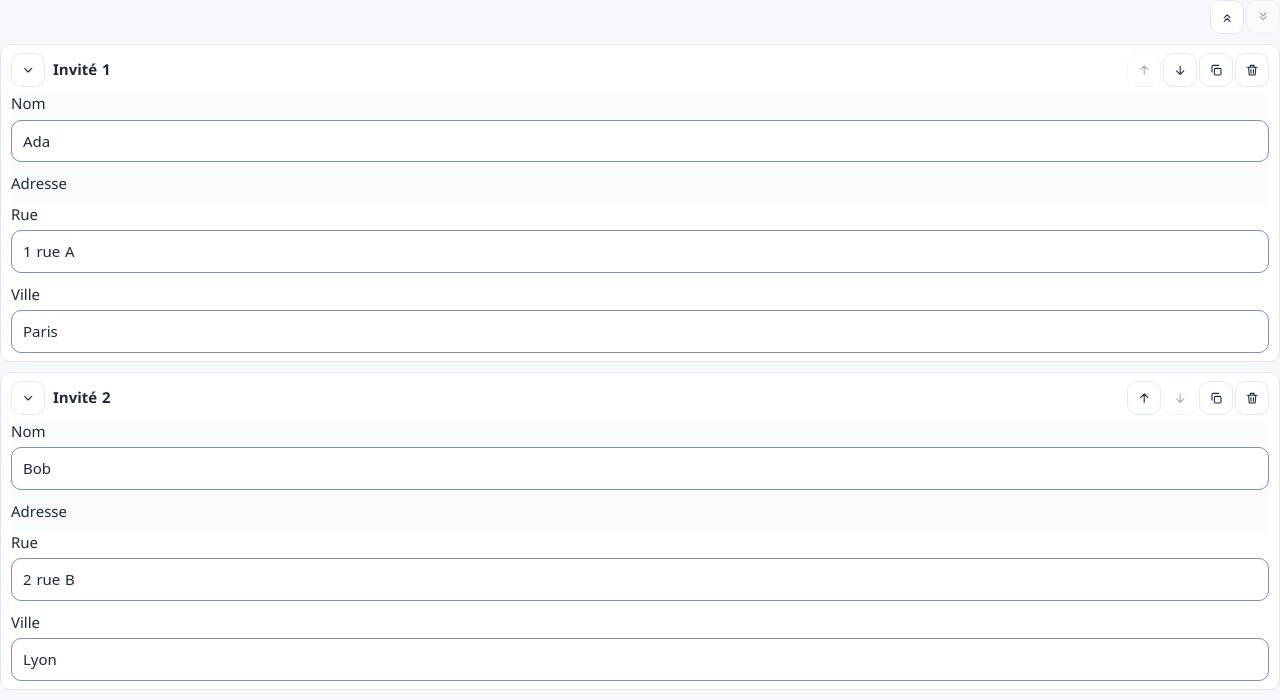
Test: Lignes répétées : dupliquer une ligne › ajoute juste en dessous une ligne avec les mêmes valeurs saisies, sous-contrôle compris
Expected: the number of elements "Invité 1 Nom Adresse Rue Ville" is 2, left=0, top=44, right=1279, bottom=362; left=0, top=372, right=1279, bottom=690
Click the button named "Dupliquer invité 1": (1216, 70) left=1199, top=53, right=1233, bottom=87
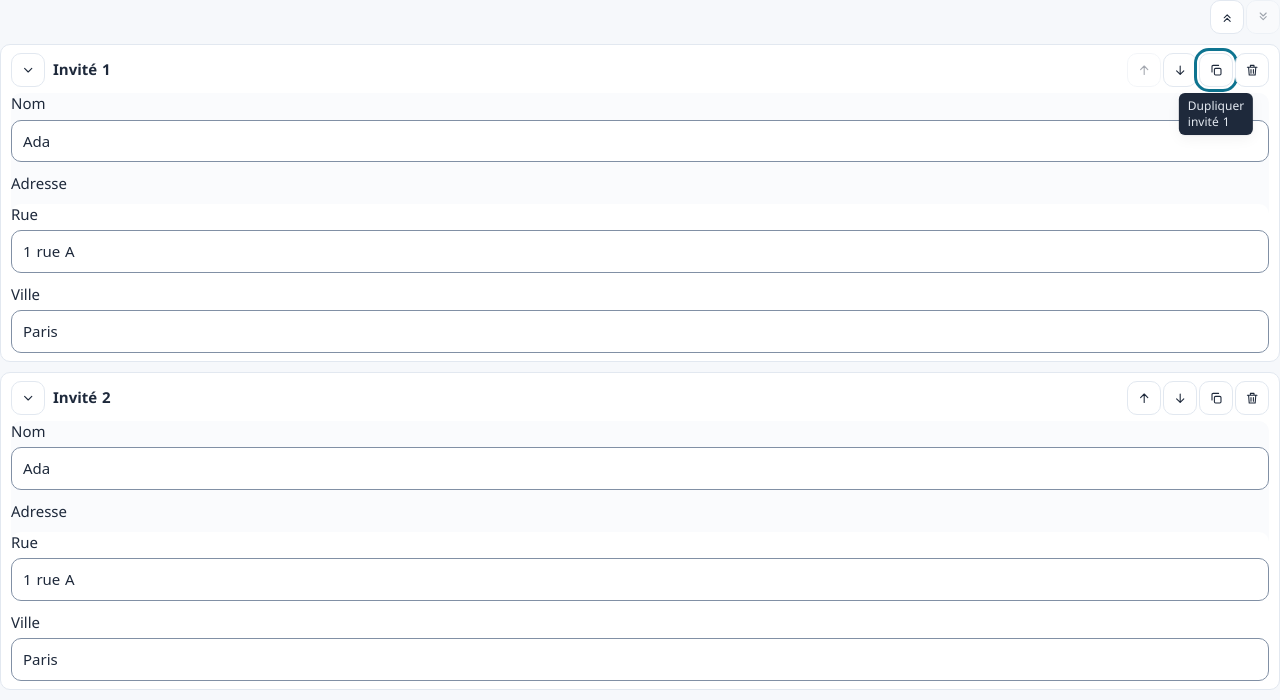
Now the 2nd field labelled "Nom" holds "Ada", box left=11, top=447, right=1269, bottom=490
